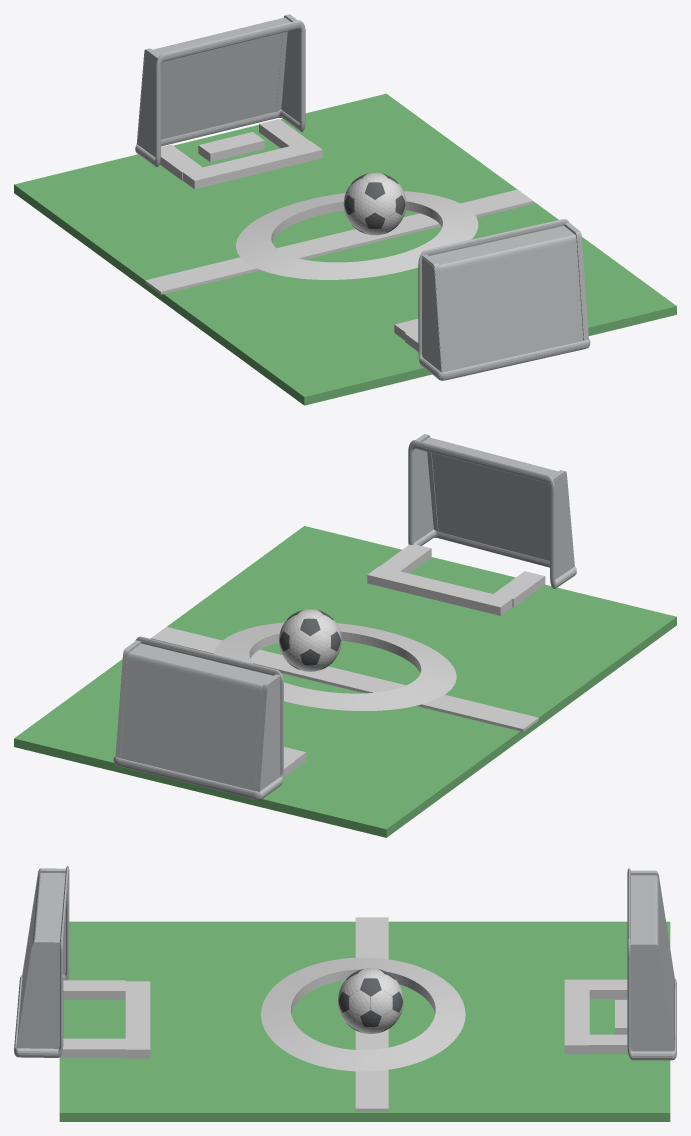
Rendered from Swanky Kieran-Jarv (1).glb.
3 renders of one model, top to bottom at view 1: azimuth 30°, elevation 25°; view 2: azimuth 150°, elevation 25°; view 3: azimuth 270°, elevation 25°, orthographic. The views are drawn at different scales.
Visible parts, largest first — view 1: Mesh_Mesh_head_geo.001_lambert2SG.001; view 2: Mesh_Mesh_head_geo.001_lambert2SG.001; view 3: Mesh_Mesh_head_geo.001_lambert2SG.001.
Part boxes in pixels (<box>): Mesh_Mesh_head_geo.001_lambert2SG.001: <box>14,14,676,405</box>; Mesh_Mesh_head_geo.001_lambert2SG.001: <box>14,434,676,837</box>; Mesh_Mesh_head_geo.001_lambert2SG.001: <box>14,866,676,1121</box>.
Size of the model in its own units: 0.138 by 0.043 by 0.2008.
